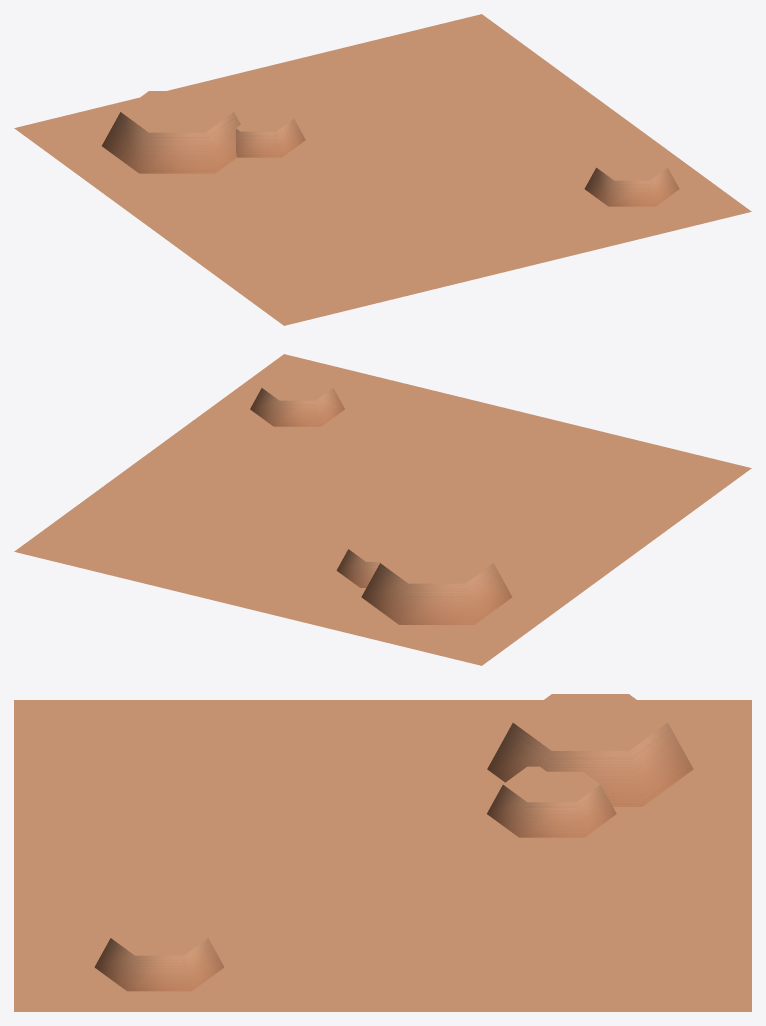
Rendered from floor-detail.glb.
3 views of the same model, one above another, from view 1: azimuth 30°, elevation 25°; view 2: azimuth 150°, elevation 25°; view 3: azimuth 270°, elevation 25° (orthographic). The views are drawn at different scales.
Parts seen in each view (by area): view 1: floor-detail; view 2: floor-detail; view 3: floor-detail.
Boxes of the visible parts, left/top/right/bottom form: floor-detail: left=14, top=14, right=751, bottom=325; floor-detail: left=14, top=354, right=751, bottom=665; floor-detail: left=14, top=694, right=751, bottom=1011.
Bounding box in the file's own units: 1 × 0.07 × 1.
Materials: 1 (1 with a texture image).
